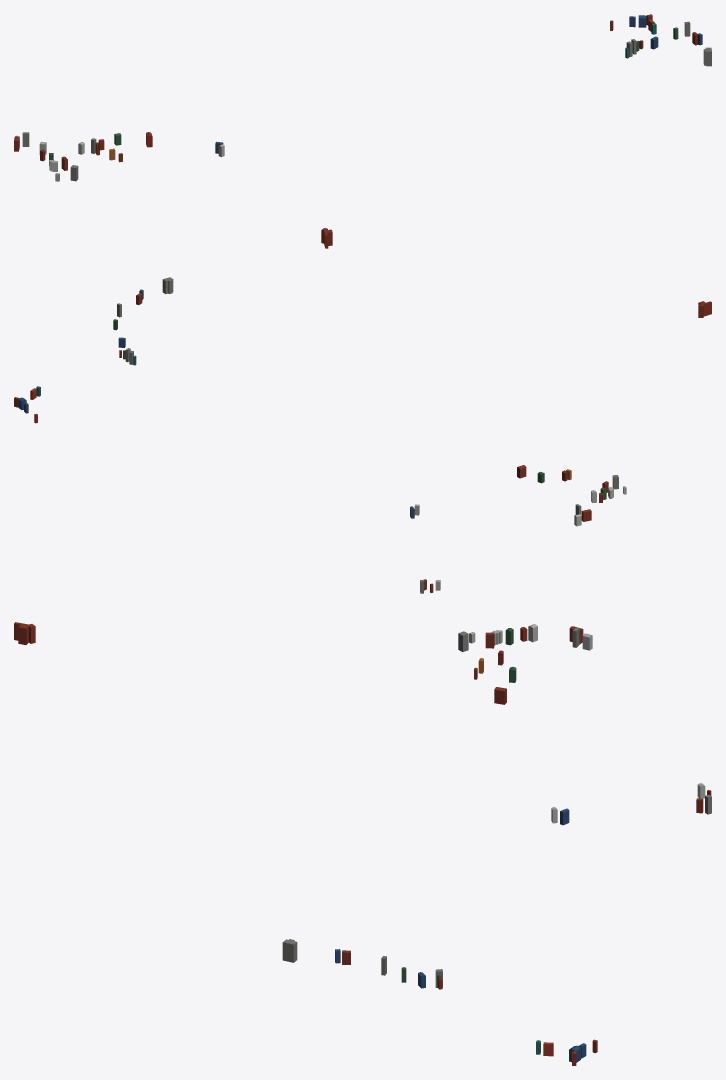
Rendered from near-15-27364-14865.3f536cff.glb.
3 views of the same model, one above another, from view 1: azimuth 30°, elevation 25°; view 2: azimuth 150°, elevation 25°; view 3: azimuth 270°, elevation 25° (orthographic). The views are drawn at different scales.
Size of the model in its own units: 1178 by 230 by 890.
